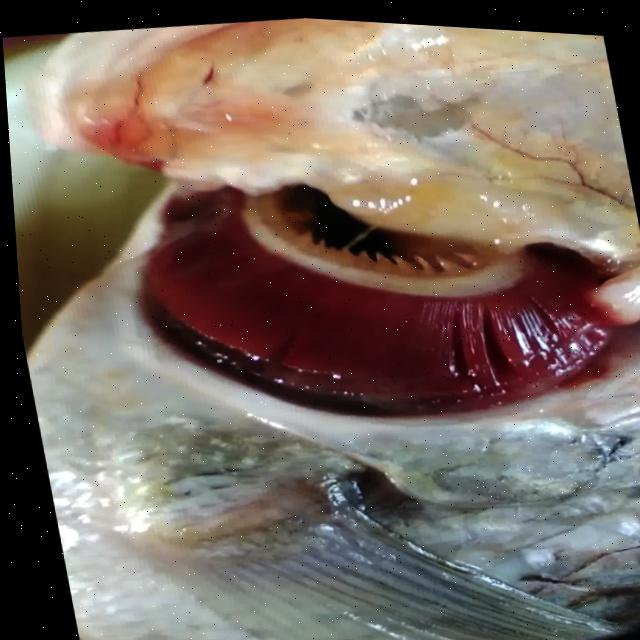Fresh: (83, 93, 629, 475)
